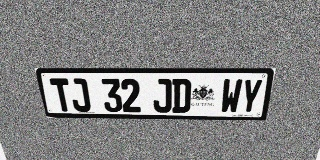2: (120, 79, 141, 112)
3: (101, 78, 123, 112)
D: (172, 79, 191, 113)
J: (68, 78, 91, 112), (153, 79, 172, 113)
T: (49, 78, 74, 112)
W: (220, 79, 243, 113)
Y: (239, 79, 263, 114)
